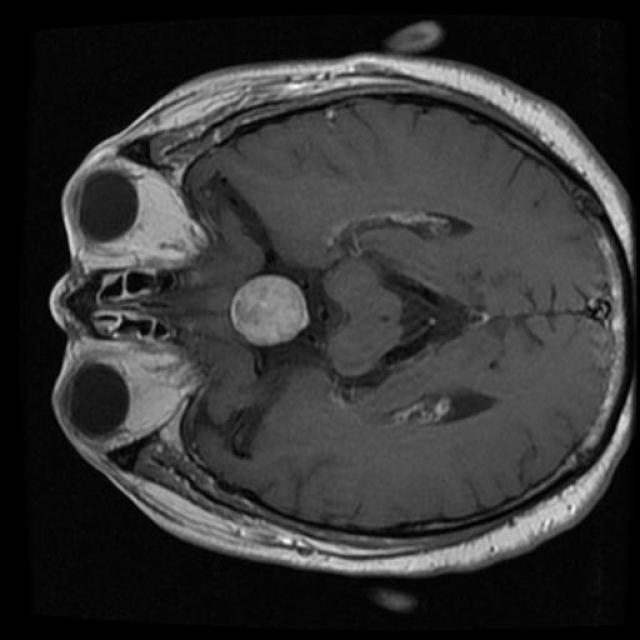Pituitary: (232, 276, 310, 346)
